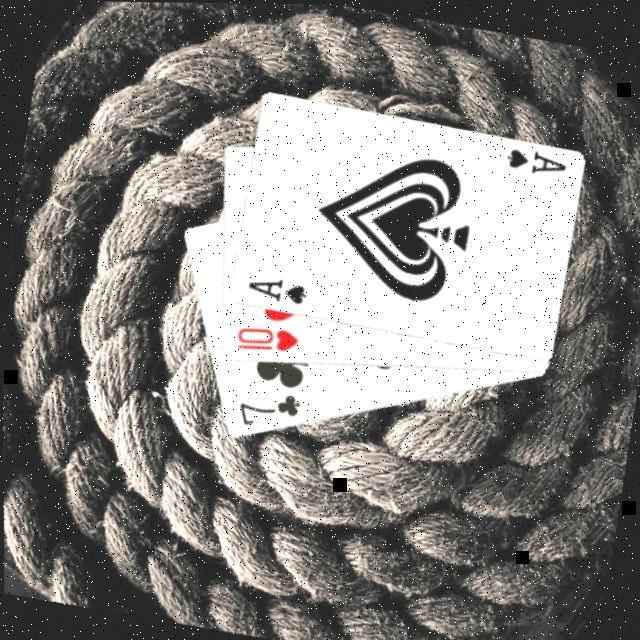10H: (230, 318, 302, 362)
7C: (230, 383, 304, 438)
AS: (240, 270, 309, 311), (498, 142, 570, 180)
